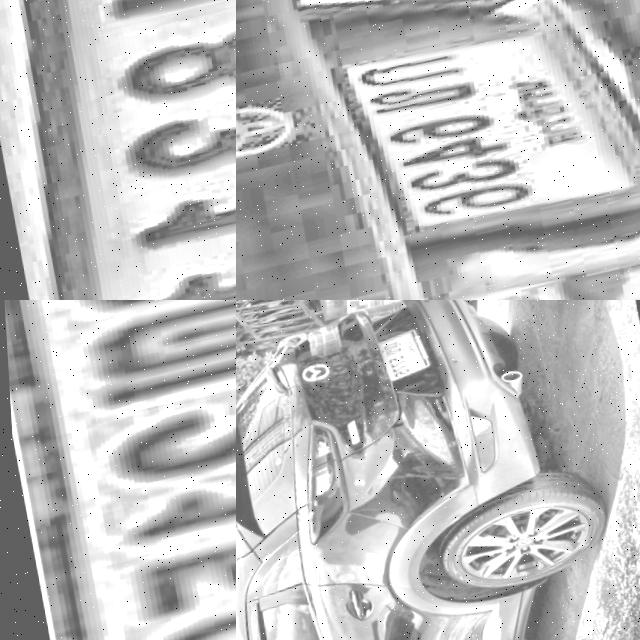license-plate: (314, 0, 640, 283), (0, 300, 236, 640), (0, 0, 236, 300), (370, 337, 431, 394)
